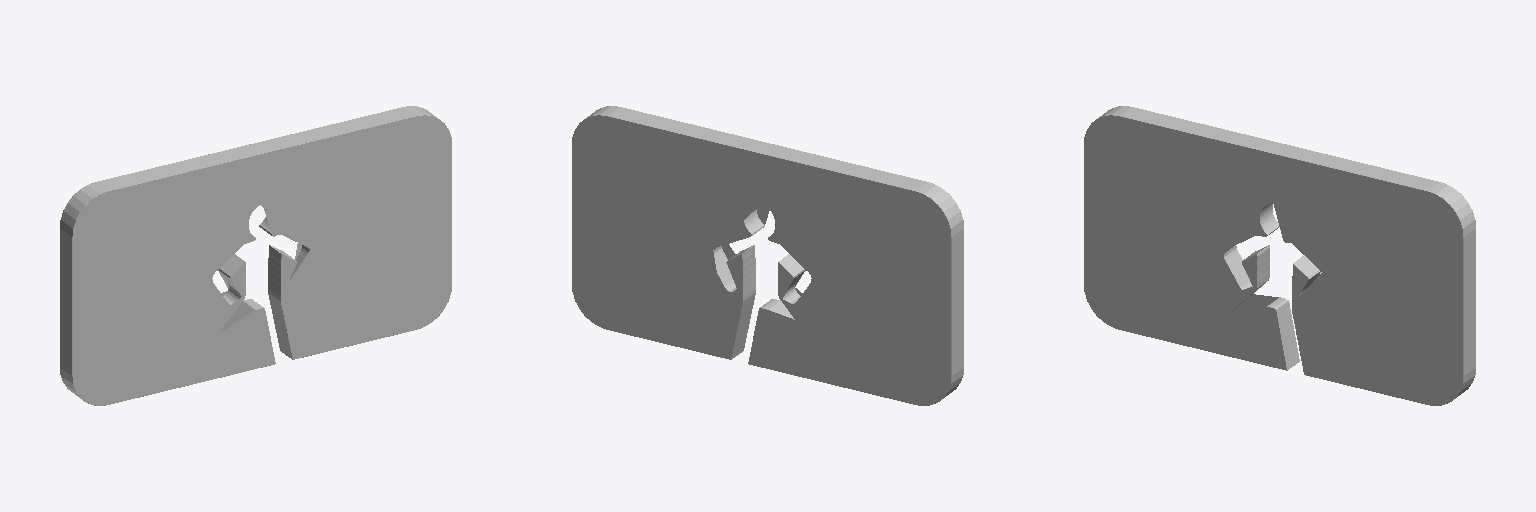
The picture shows the model from 3 angles: view 1: azimuth 30°, elevation 25°; view 2: azimuth 150°, elevation 25°; view 3: azimuth 330°, elevation 25°; orthographic projection.
Parts seen in each view (by area): view 1: wall_35; view 2: wall_35; view 3: wall_35.
Boxes of the visible parts, box(x1,y1,x2,y2) form: wall_35: box(60, 106, 451, 405); wall_35: box(572, 106, 963, 405); wall_35: box(1084, 106, 1475, 405).
Bounding box in the file's own units: 12 × 6.45 × 0.7.